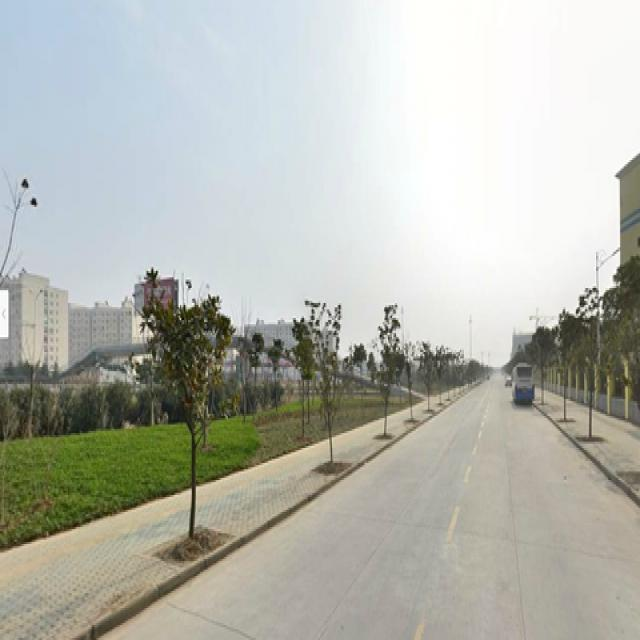magn: (150, 290, 207, 544), (305, 307, 339, 463)
